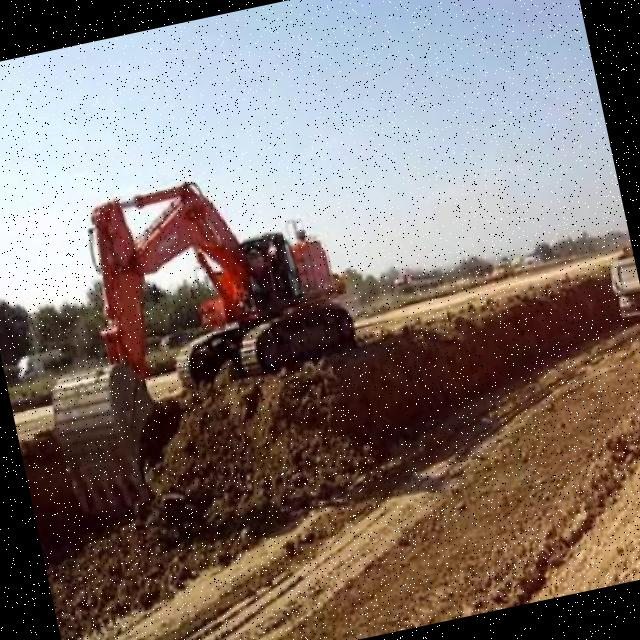Excavator: (7, 152, 380, 516)
